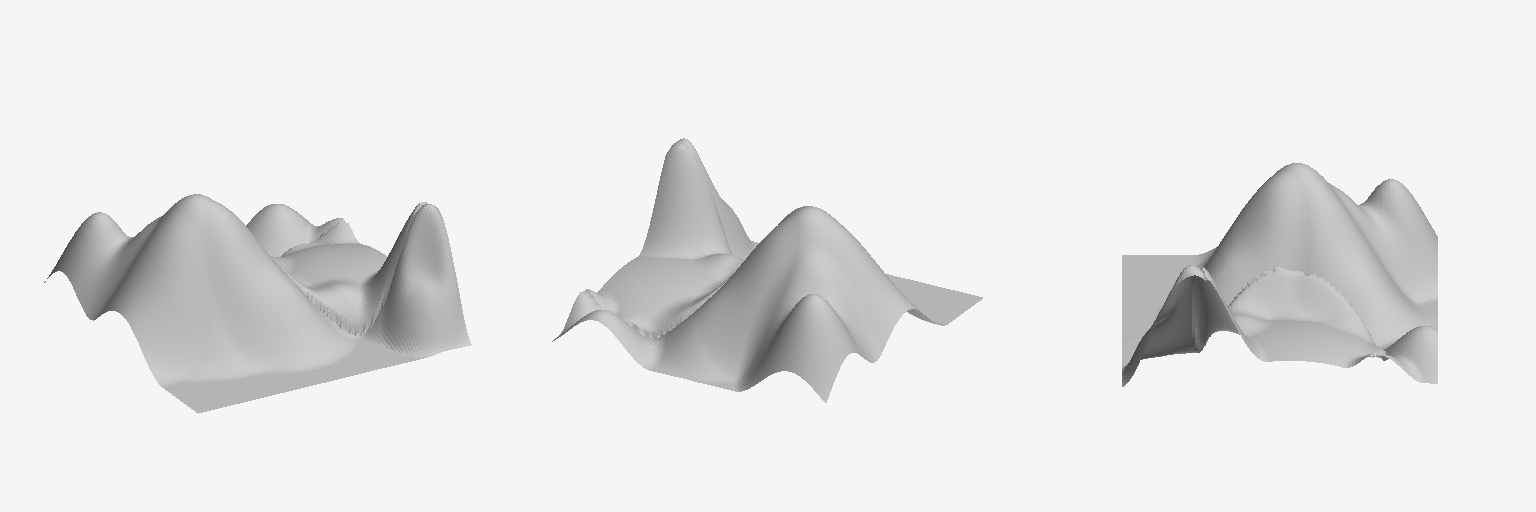
Rendered from Terrain.obj.
The picture shows the model from 3 angles: view 1: azimuth 30°, elevation 25°; view 2: azimuth 150°, elevation 25°; view 3: azimuth 270°, elevation 25°; orthographic projection.
Visible parts, largest first — view 1: Plane; view 2: Plane; view 3: Plane.
Boxes of the visible parts, box(x1,y1,x2,y2) form: Plane: box(44, 194, 471, 413); Plane: box(552, 138, 982, 402); Plane: box(1122, 163, 1437, 386).
Bounding box in the file's own units: 200 × 92.32 × 200.